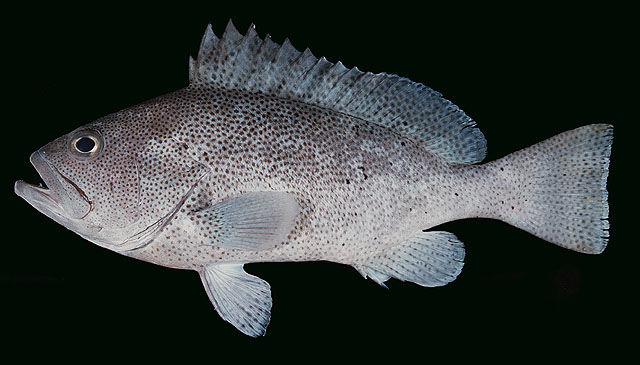fish: (15, 19, 614, 338)
